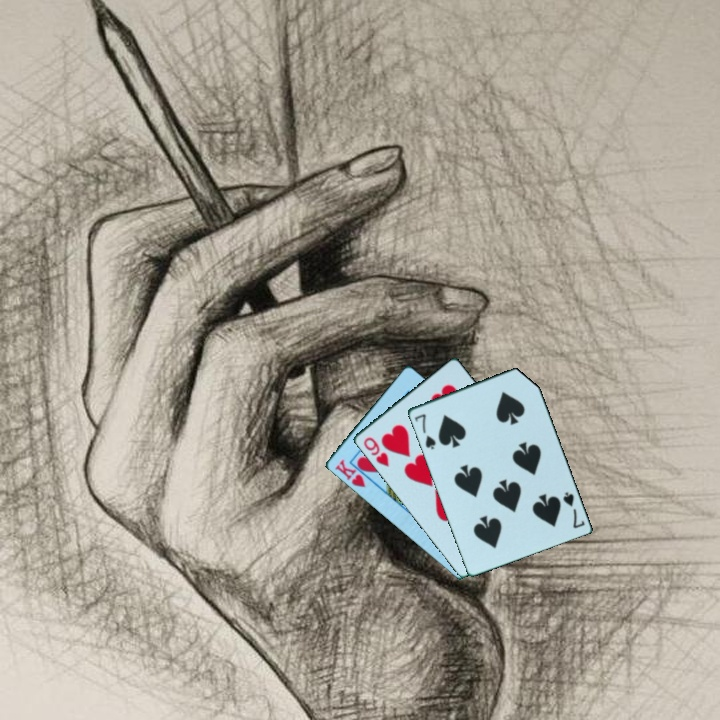7s: (559, 488, 587, 531), (411, 410, 438, 452)
9h: (360, 433, 392, 470)
Kh: (331, 455, 368, 490)
